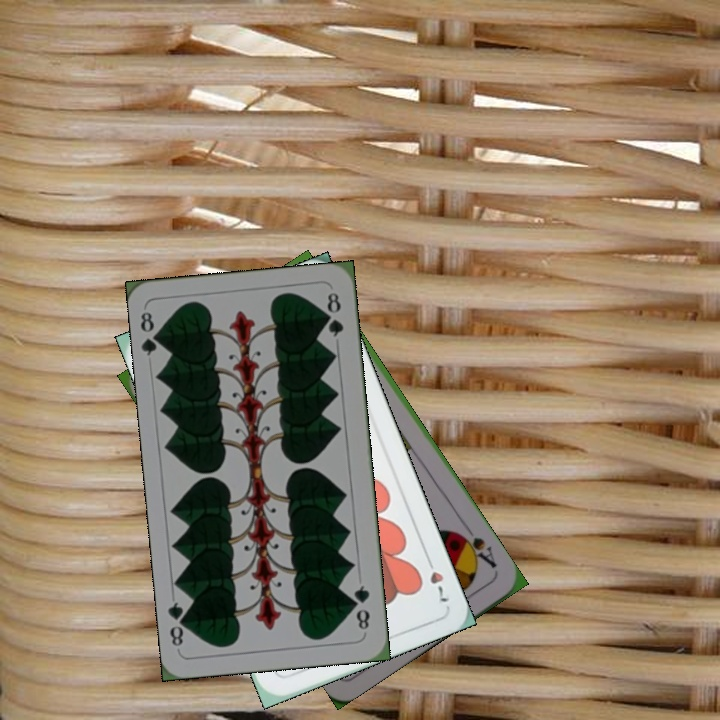G8: (136, 308, 166, 358), (349, 581, 373, 633)
H7: (421, 551, 452, 605)
SA: (453, 522, 500, 571)
